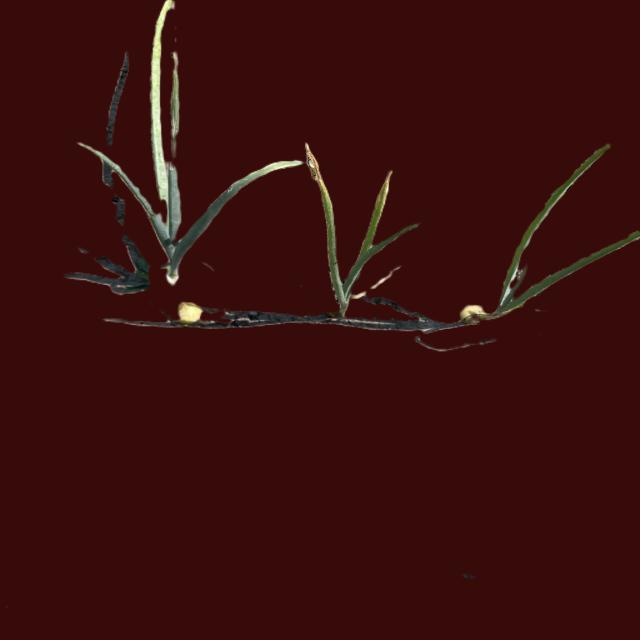Onion: (448, 144, 612, 348), (131, 61, 199, 325), (300, 151, 388, 337)
